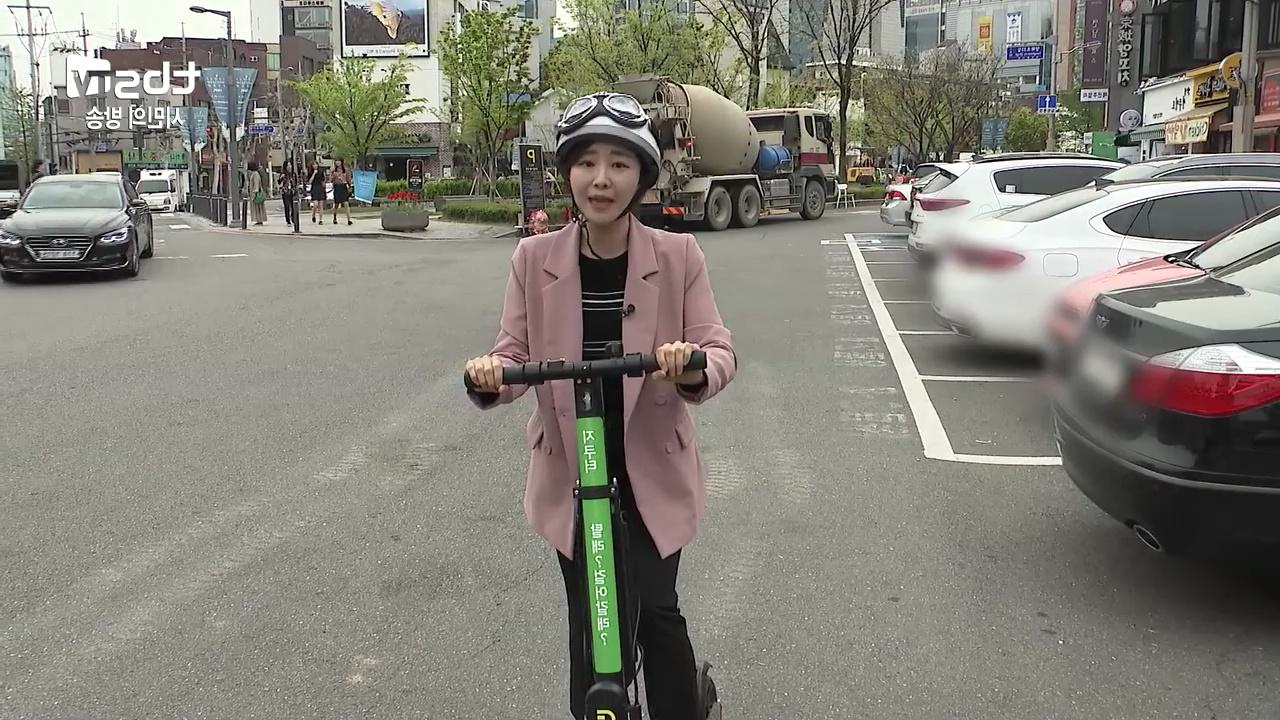helmet: (458, 89, 741, 720)
